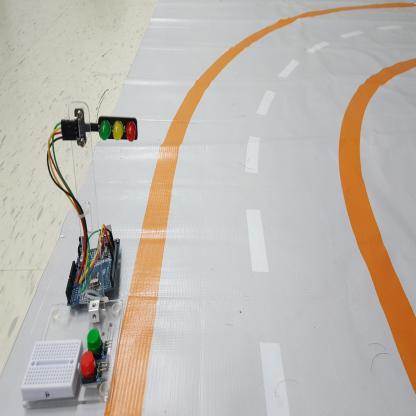traffic-light: (98, 114, 138, 144)
